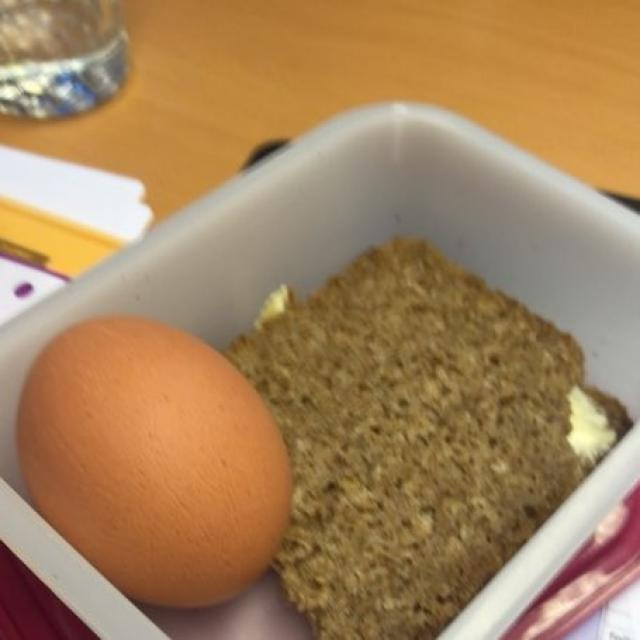bread: (234, 245, 621, 631)
butter: (570, 389, 614, 459)
egg: (20, 323, 288, 604)
